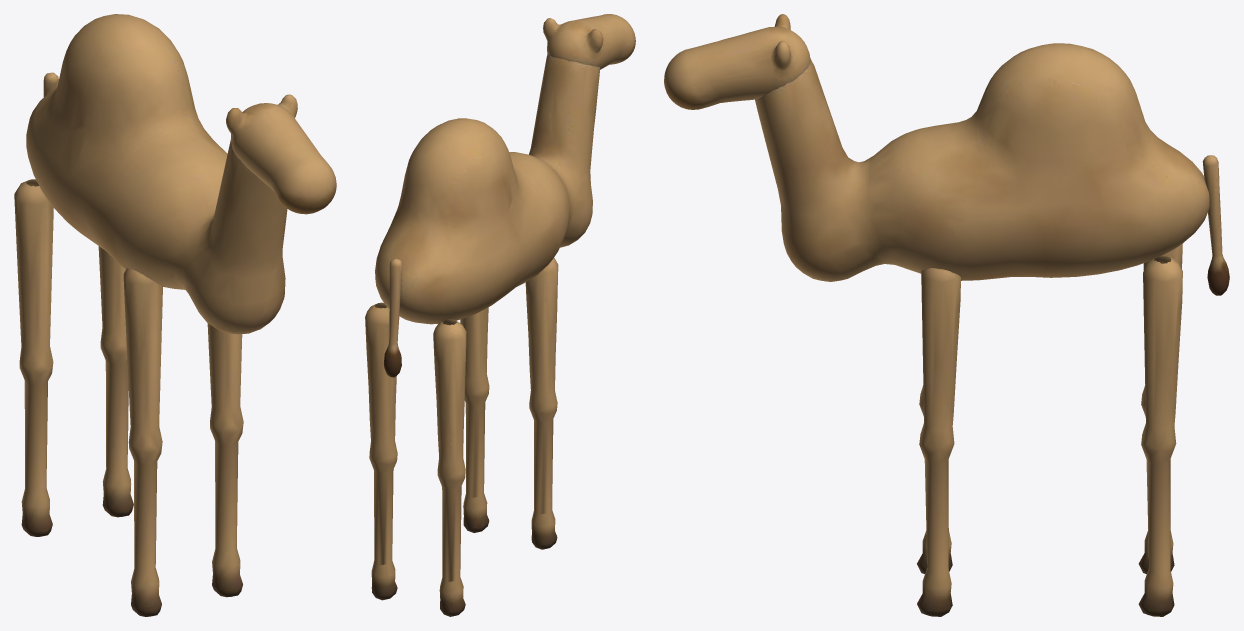
File: animal_camel.glb
3 renders of one model, left to right at view 1: azimuth 30°, elevation 25°; view 2: azimuth 150°, elevation 25°; view 3: azimuth 270°, elevation 25°, orthographic. The views are drawn at different scales.
Parts seen in each view (by area): view 1: animal_camel, leg2, leg0, head, leg1, leg3; view 2: animal_camel, leg2, leg0, leg3, leg1, head, tail; view 3: animal_camel, leg3, leg1, head, tail, leg2.
Boxes of the visible parts, x1,y1,x2,y2 form: animal_camel: (26,14,287,334); leg2: (14,179,53,536); leg0: (123,268,162,616); head: (226,94,336,214); leg1: (207,323,243,597); leg3: (98,246,133,517); animal_camel: (375,54,600,324); leg2: (433,319,466,616); leg0: (525,258,558,549); leg3: (365,302,397,600); leg1: (460,307,489,532); head: (543,14,635,69); tail: (383,258,402,377); animal_camel: (755,43,1209,281); leg3: (1138,256,1182,616); leg1: (917,268,960,616); head: (664,14,810,109); tail: (1202,155,1229,295); leg2: (1138,244,1182,573).
Size of the model in its own units: 0.1999 by 0.7908 by 0.7142.
1 material, 1 textured.
